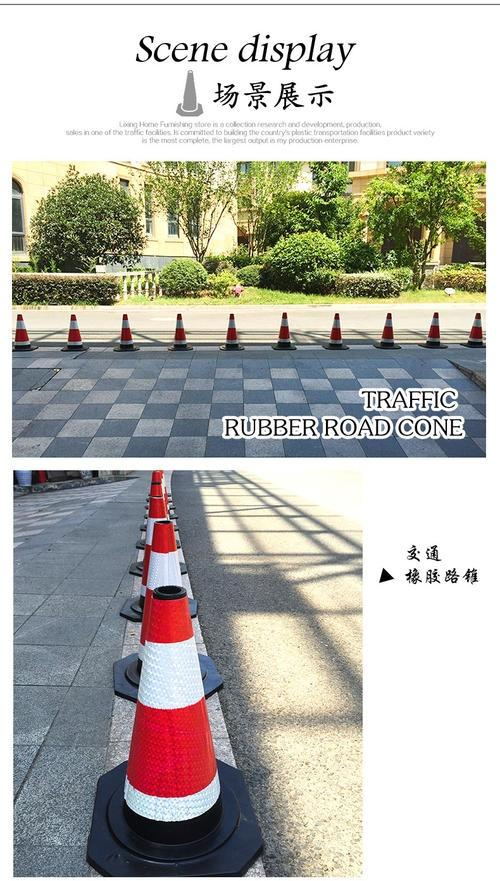cone_barrel: (101, 568, 243, 860), (123, 470, 200, 637), (175, 68, 202, 114), (110, 311, 138, 352), (59, 312, 86, 353), (217, 311, 244, 351), (321, 311, 348, 350), (270, 310, 296, 350), (166, 311, 191, 351), (10, 311, 34, 349), (375, 310, 397, 347), (421, 309, 443, 346), (462, 311, 484, 346)
